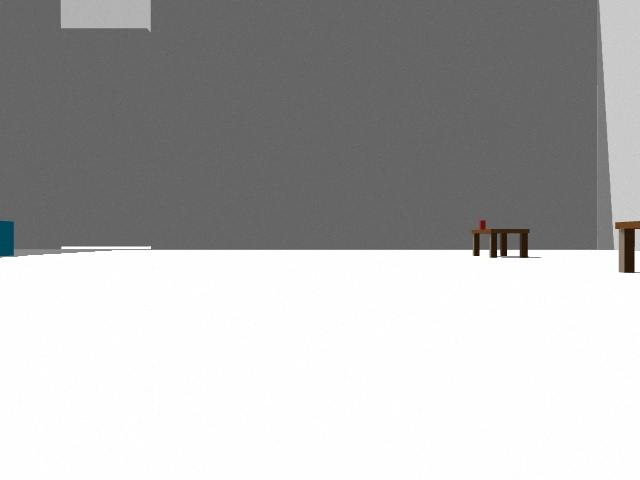blue_drop_zone: (0, 221, 14, 256)
